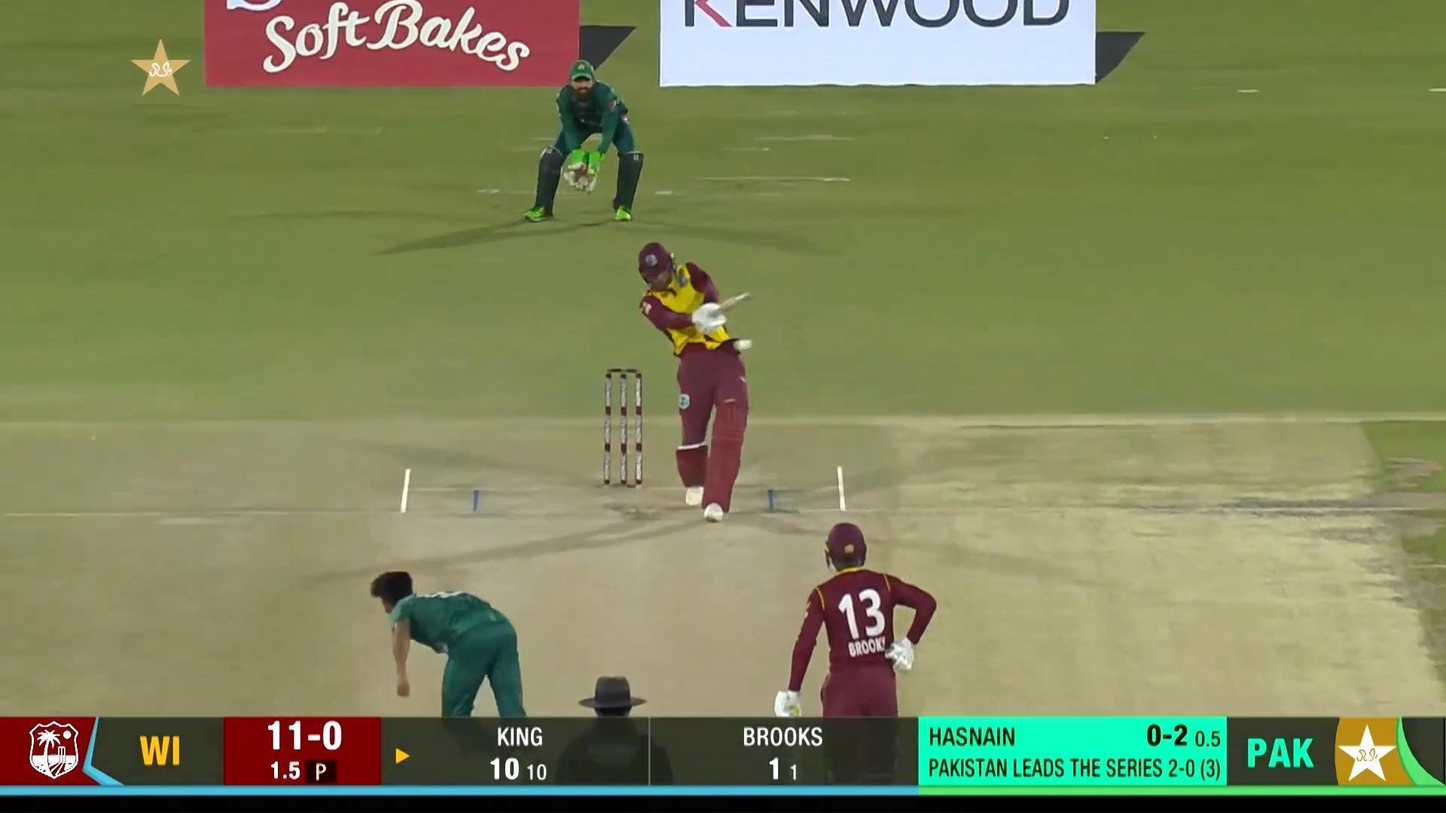BM 1: (638, 241, 749, 521)
BO: (369, 568, 532, 720)
